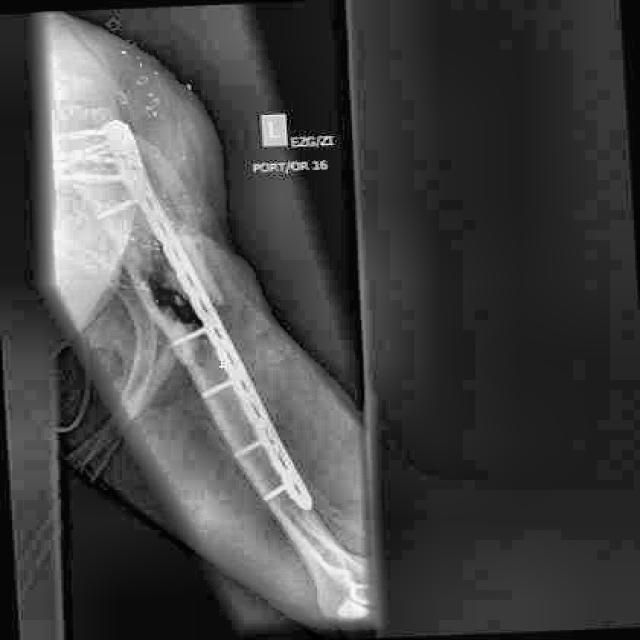humerus: (133, 251, 209, 344)
